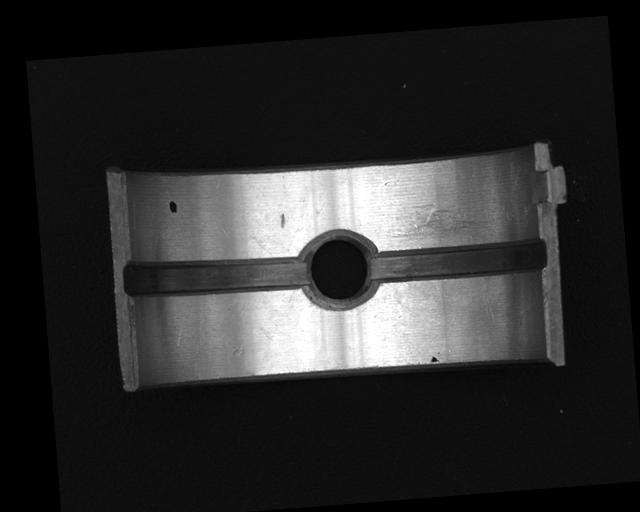blot: (168, 200, 177, 215), (430, 354, 440, 364)
bruise: (278, 211, 286, 229)
gap: (121, 247, 311, 302), (368, 236, 548, 286)
hole: (299, 226, 379, 313)
scratch: (382, 202, 497, 246)
